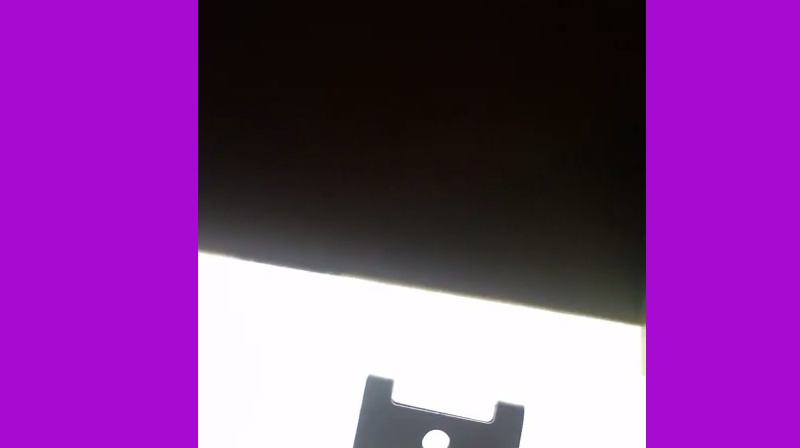O002: (343, 373, 528, 447)
